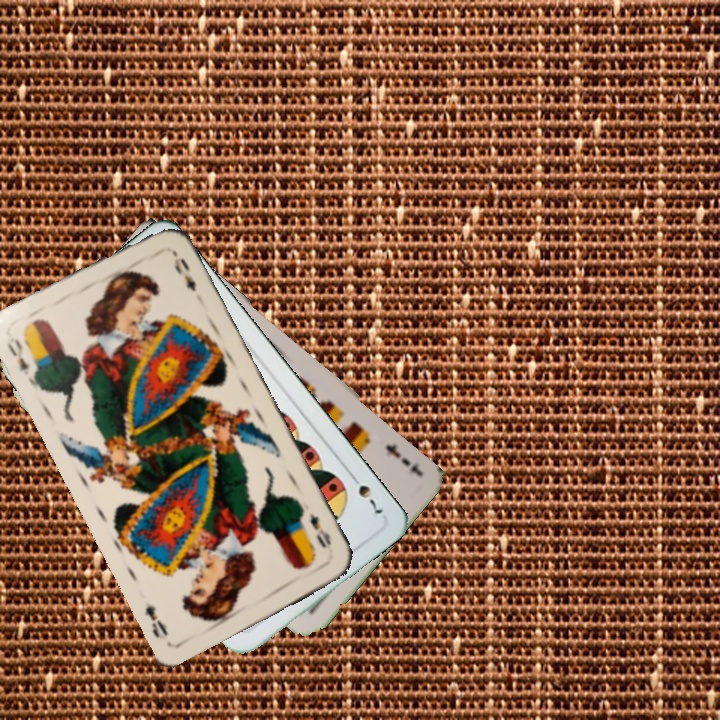E7: (381, 439, 414, 469)
EO: (2, 333, 42, 386), (305, 508, 334, 551)
S7: (345, 468, 386, 520)
